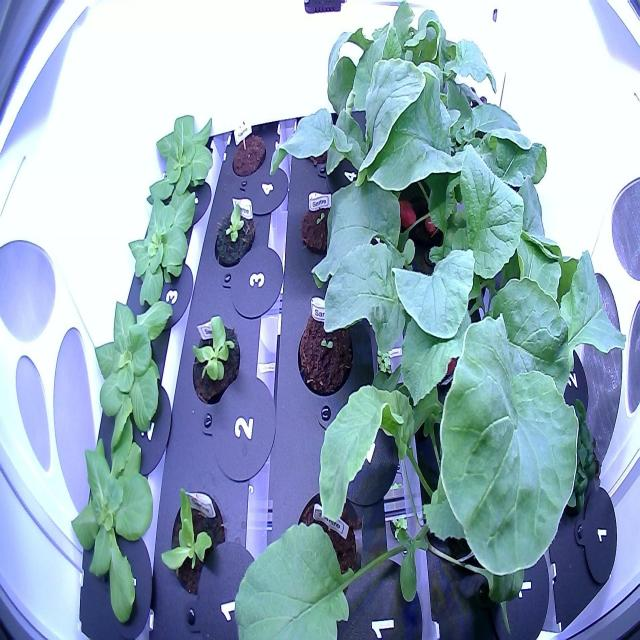germination: (289, 292, 359, 401), (297, 185, 348, 263)
pod: (226, 122, 270, 184)
young: (58, 427, 168, 632), (86, 278, 182, 456), (123, 183, 205, 314), (158, 473, 235, 612), (143, 102, 219, 220), (186, 301, 251, 410), (206, 197, 261, 278)
